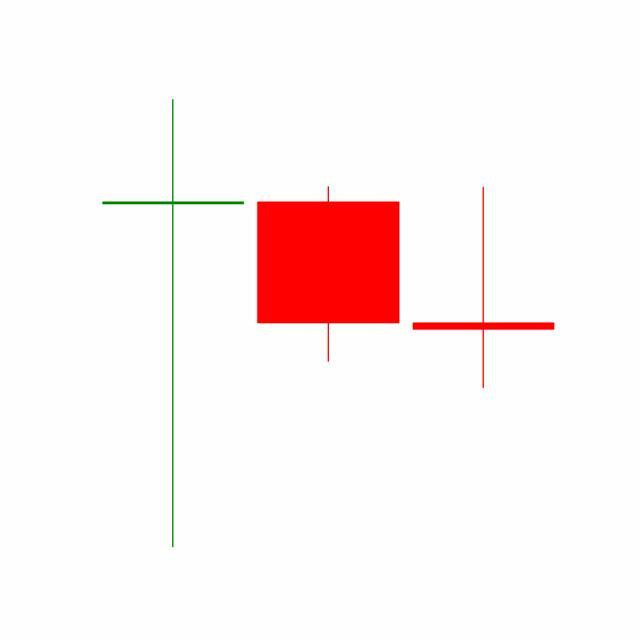Spinning Top: (406, 186, 562, 392)
